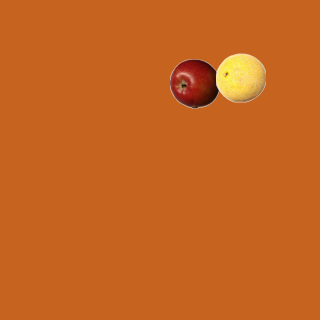Apple Braeburn: (169, 58, 219, 108)
Cantaloupe 1: (215, 52, 265, 102)
